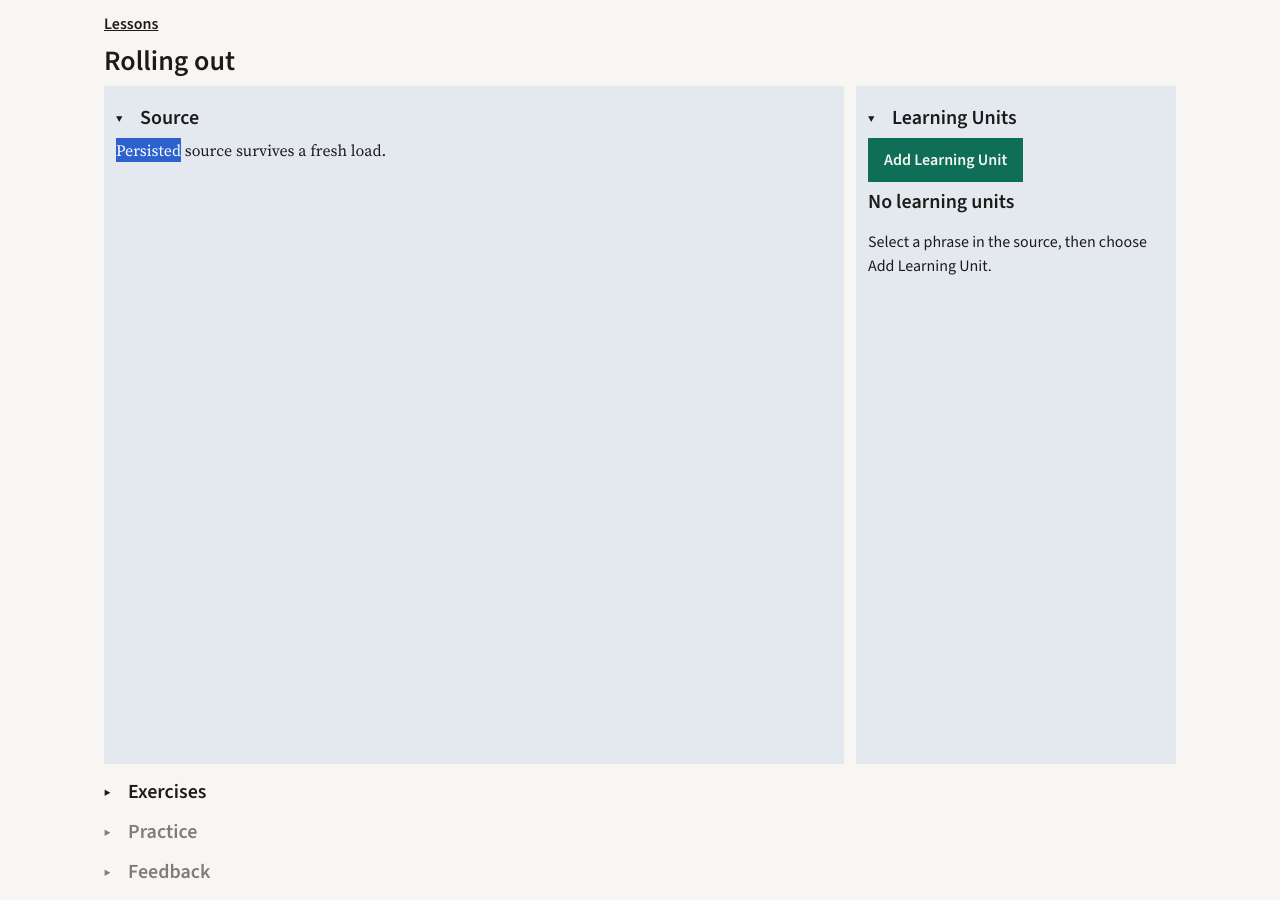
Lesson workspace shell › renders persisted source on a direct reopen and can add a unit from it
This screenshot has width=1280, height=900.
Expected: the text with test id "source-body" reads "Persisted source survives a fresh load.", left=116, top=139, right=386, bottom=161
Expected: the button "▾ Source" is shown, left=116, top=98, right=832, bottom=138
Click the button "Add Learning Unit": coordinates (946, 160) left=868, top=138, right=1023, bottom=182
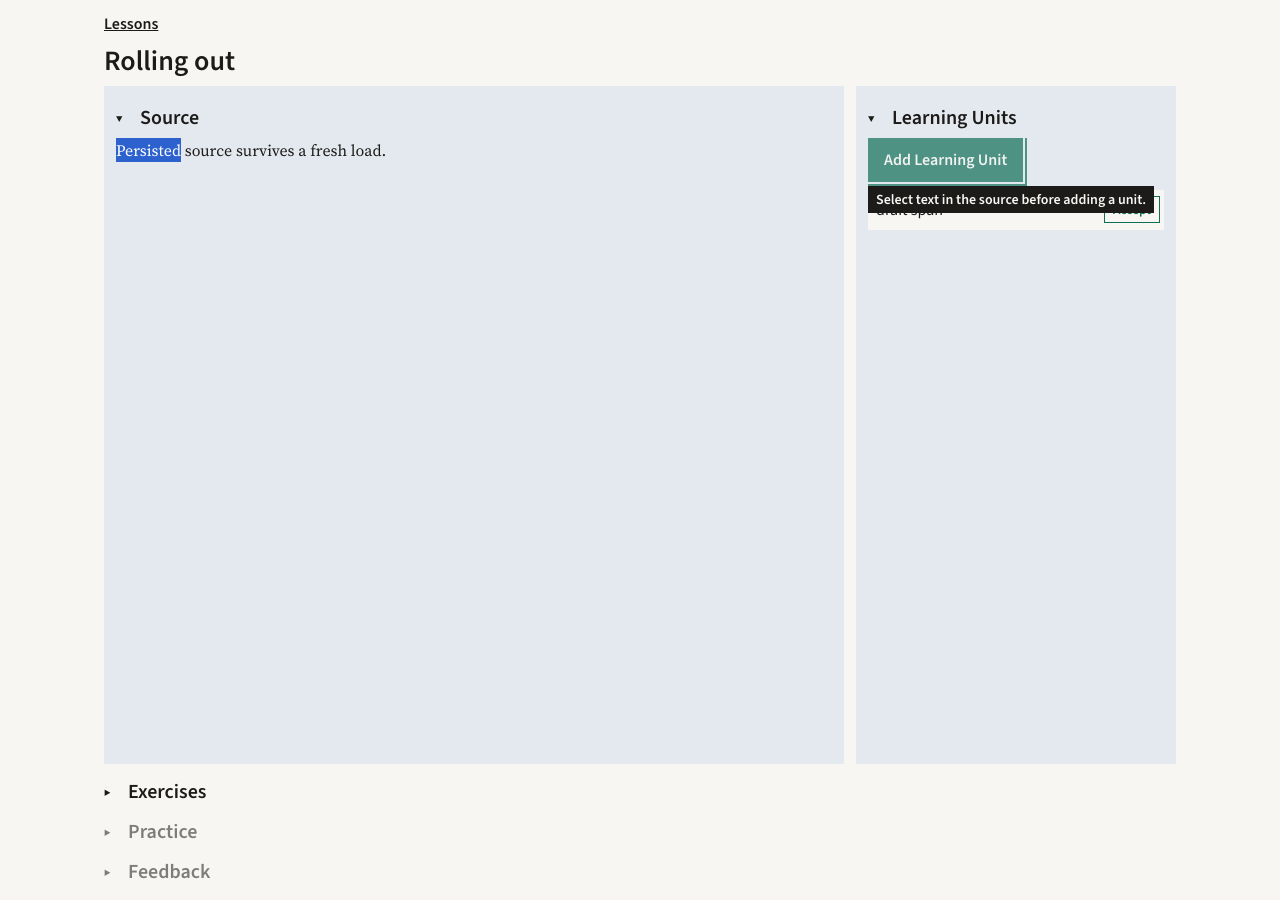
Expected: the number of buttons "draft span" is 1, left=876, top=194, right=1096, bottom=226
